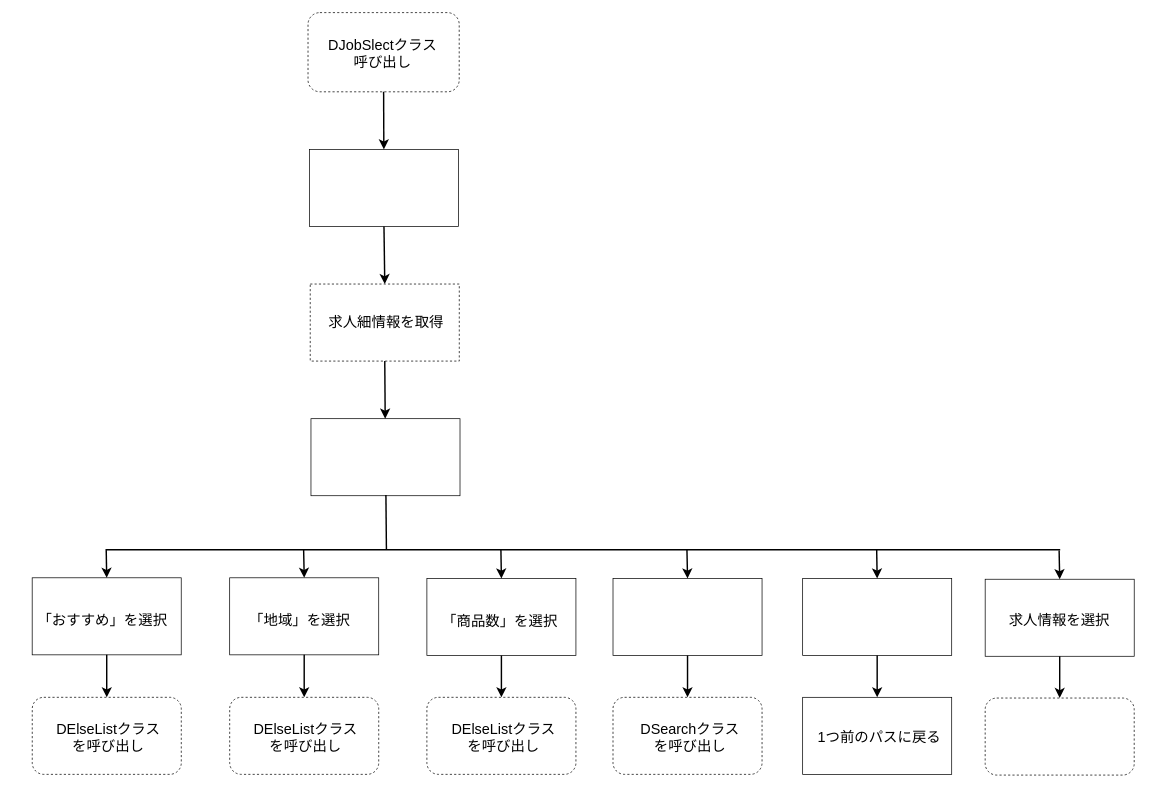
This 1164x788 diagram has some shape labels left out. Here are the shapes that lost their labels. From the top down, the centre of each, then its label:
At pixel 383 187: "APIと通信".
At pixel 385 457: "求人一覧画面を 表示".
At pixel 687 617: "キーワードで検索".
At pixel 877 617: "「戻る」を選択".
At pixel 1059 736: "DJobDetailクラス を呼び出し".
